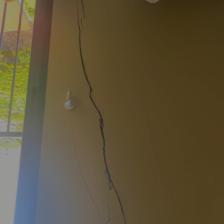Medium: (76, 14, 160, 209)
